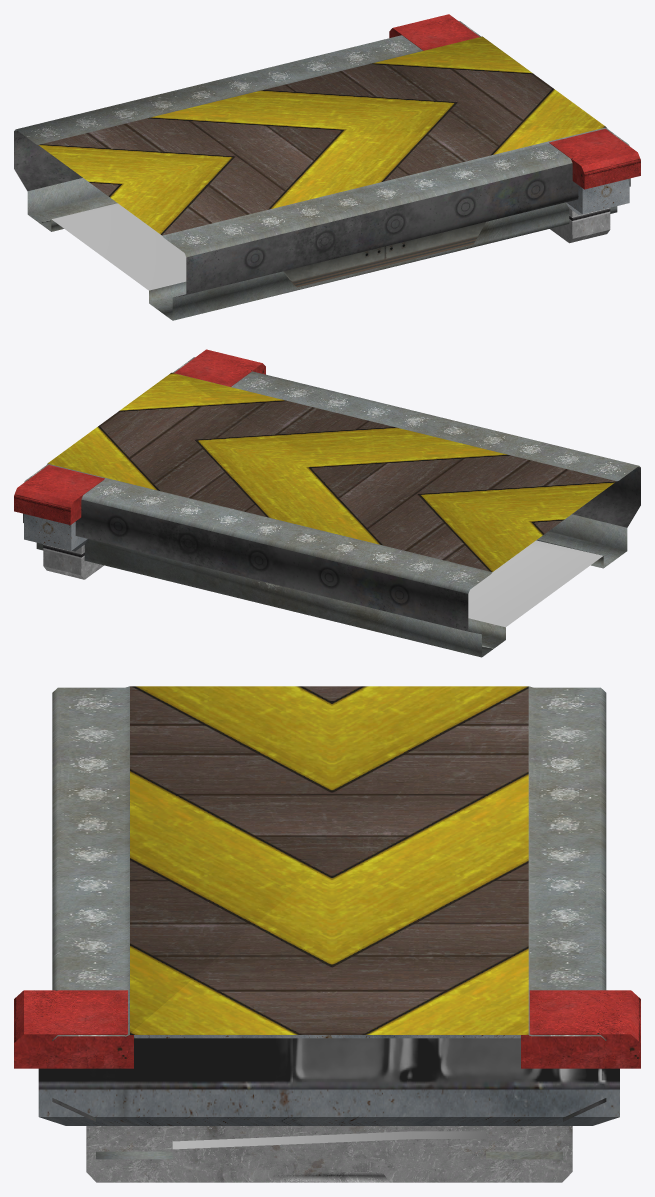
The model's file is Ob_ArrowRoadSmall_RC.fbx.
The picture shows the model from 3 angles, top to bottom: view 1: azimuth 30°, elevation 25°; view 2: azimuth 150°, elevation 25°; view 3: azimuth 270°, elevation 25°; orthographic projection. The views are drawn at different scales.
Visible parts, largest first — view 1: Ob_ArrowRoadSmall_RC; view 2: Ob_ArrowRoadSmall_RC; view 3: Ob_ArrowRoadSmall_RC.
Part boxes in pixels (left/top/right/bottom): Ob_ArrowRoadSmall_RC: left=14, top=14, right=640, bottom=320; Ob_ArrowRoadSmall_RC: left=14, top=349, right=640, bottom=657; Ob_ArrowRoadSmall_RC: left=14, top=686, right=640, bottom=1182.
Size of the model in its own units: 425 by 88.41 by 323.
